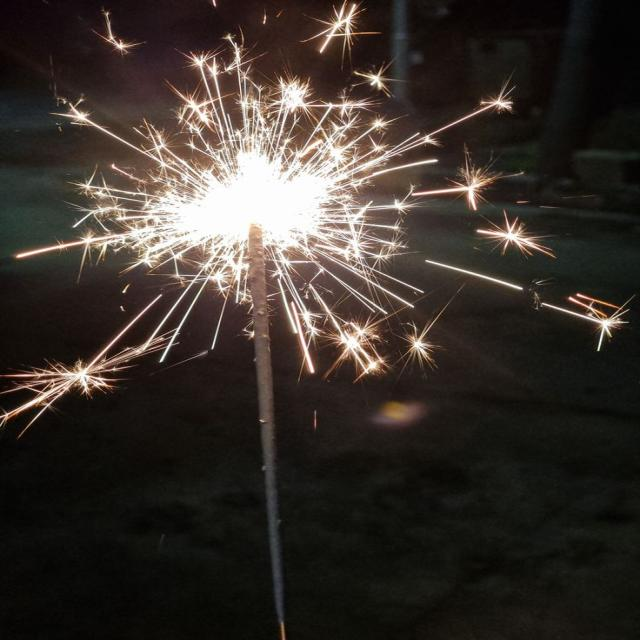fire: (170, 150, 327, 248)
